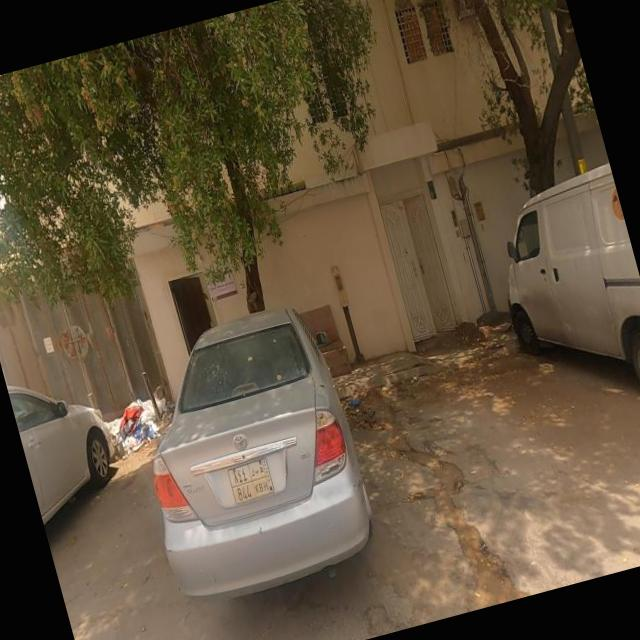debris: (47, 314, 209, 496), (320, 343, 400, 466)
